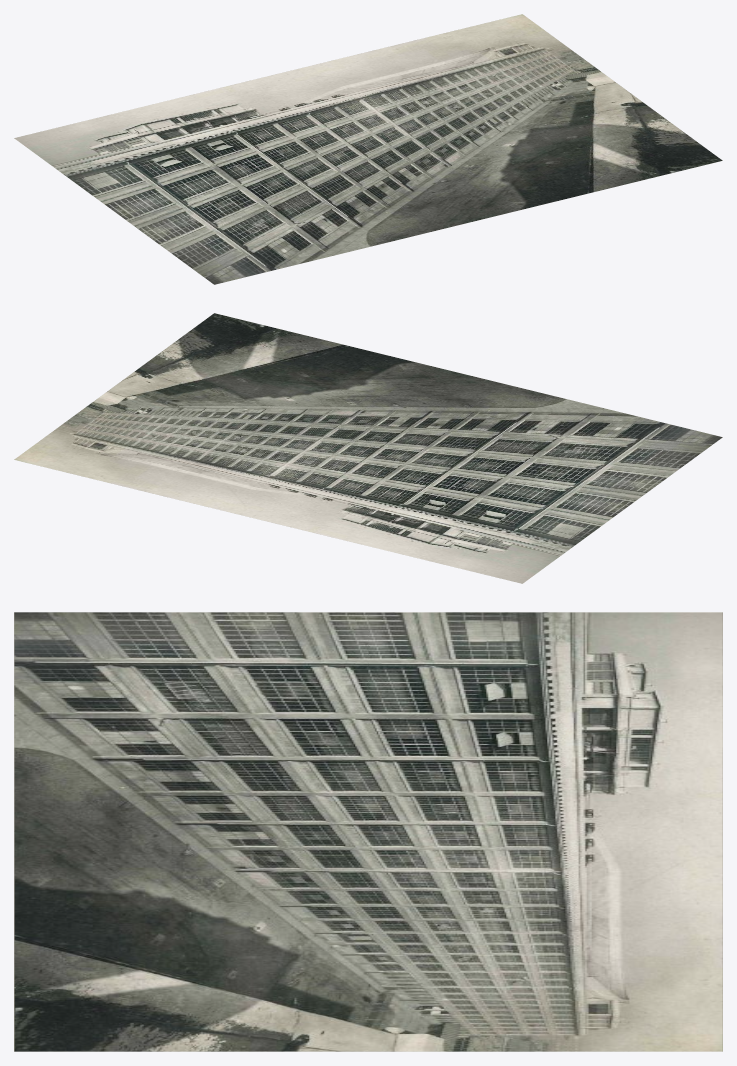
The model's file is prospetto.obj.
3 views of the same model, one above another, from view 1: azimuth 30°, elevation 25°; view 2: azimuth 150°, elevation 25°; view 3: azimuth 270°, elevation 25° (orthographic). The views are drawn at different scales.
Parts seen in each view (by area): view 1: Plane001; view 2: Plane001; view 3: Plane001.
Boxes of the visible parts, box(x1,y1,x2,y2) form: Plane001: box(14, 14, 722, 284); Plane001: box(14, 313, 722, 583); Plane001: box(14, 612, 722, 1051).
Bounding box in the file's own units: 2.49 × 0 × 1.7.
